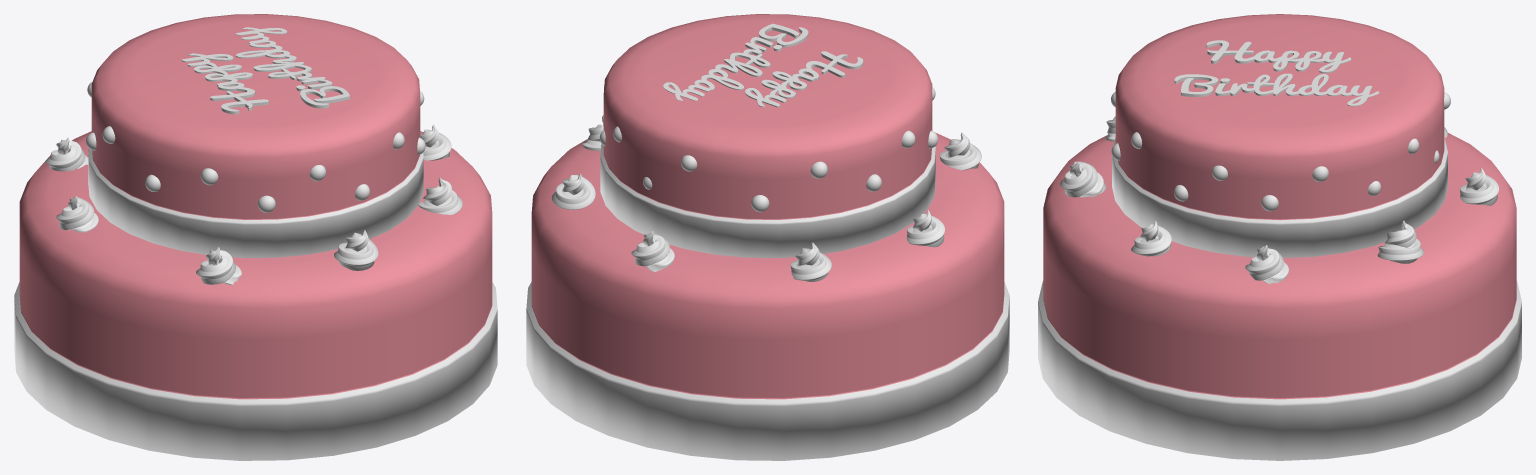
Rendered from cakeModel.glb.
The picture shows the model from 3 angles, left to right: view 1: azimuth 30°, elevation 25°; view 2: azimuth 150°, elevation 25°; view 3: azimuth 270°, elevation 25°; orthographic projection.
Visible parts, largest first — view 1: Cake layer 1.001, Cake layer 1, Text, Spiral.003, Spiral.007, Spiral.004, Spiral.005, Spiral.008, Spiral.000; view 2: Cake layer 1.001, Cake layer 1, Text, Spiral.006, Spiral.002, Spiral.008, Spiral.007, Spiral.004; view 3: Cake layer 1.001, Cake layer 1, Text, Spiral.006, Spiral.003, Spiral.000, Spiral.002, Spiral.005.
Part boxes in pixels (x1,y1,x2,y2): Cake layer 1.001: (14,131,497,460); Cake layer 1: (88,14,423,257); Text: (181,27,349,114); Spiral.003: (334,230,378,270); Spiral.007: (196,247,241,284); Spiral.004: (56,196,98,232); Spiral.005: (418,177,462,214); Spiral.008: (45,137,88,171); Spiral.000: (420,125,451,160); Cake layer 1.001: (526,132,1009,460); Cake layer 1: (600,14,935,257); Text: (663,23,863,107); Spiral.006: (551,174,595,209); Spiral.002: (631,231,674,272); Spiral.008: (790,242,831,281); Spiral.007: (939,132,981,170); Spiral.004: (906,210,945,247); Cake layer 1.001: (1038,133,1521,460); Cake layer 1: (1112,14,1447,257); Text: (1174,40,1379,106); Spiral.006: (1377,220,1423,263); Spiral.003: (1060,161,1106,197); Spiral.000: (1245,245,1288,284); Spiral.002: (1460,168,1499,205); Spiral.005: (1131,221,1171,256).
Size of the model in its own units: 8.93 by 5.89 by 8.93.
